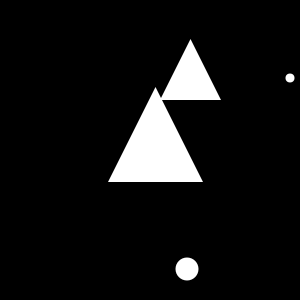rectangle: (176, 258, 198, 280), (286, 74, 294, 82)
triangle: (108, 87, 203, 182), (160, 39, 221, 100)
